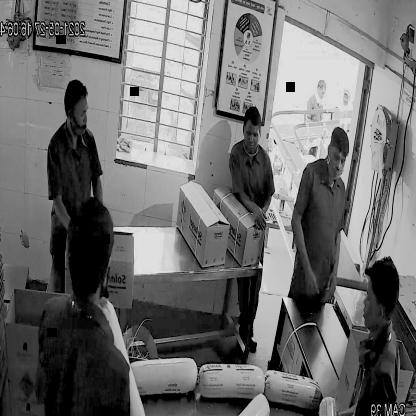no_goggles: (63, 102, 94, 127), (325, 149, 349, 171)
